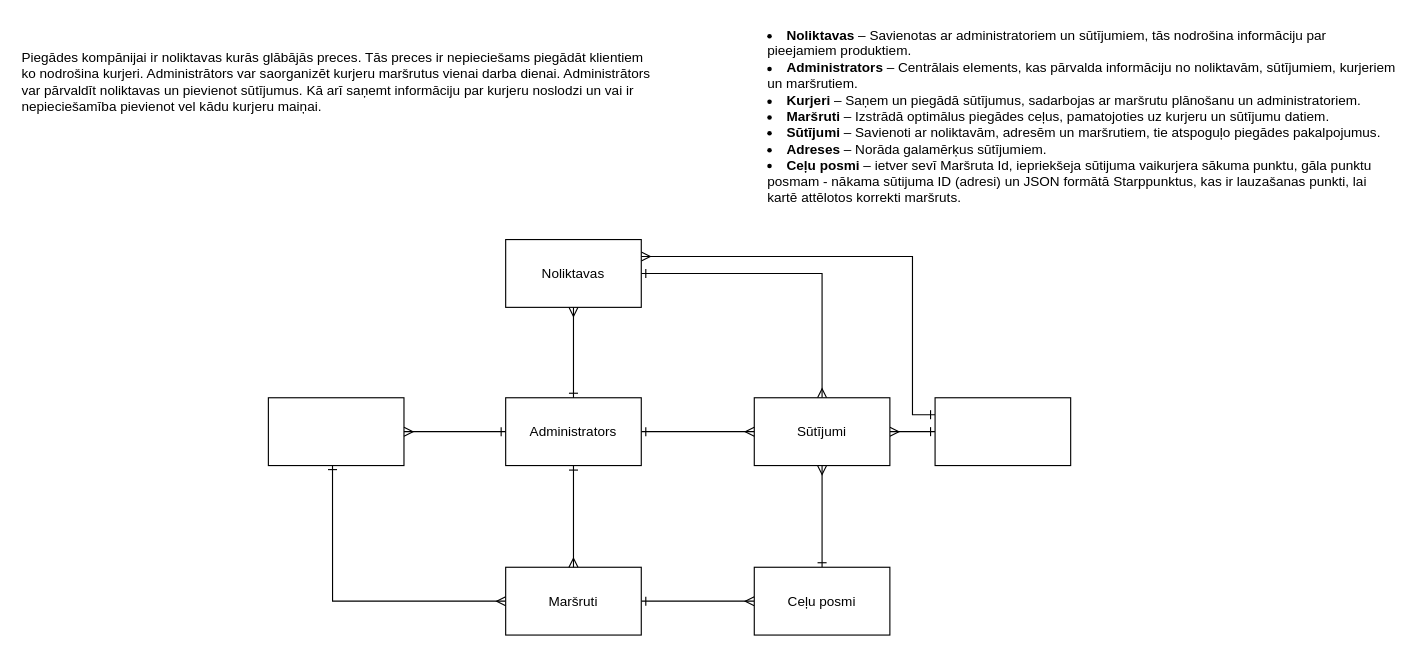
Some shapes in this 1417 by 654 pixel diagram are drawn without their labels. Here are the shapes that lost their labels. From the top down, the centre of each, then its label:
At (335,431): "Kurjeri".
At (1002,431): "Adreses".
